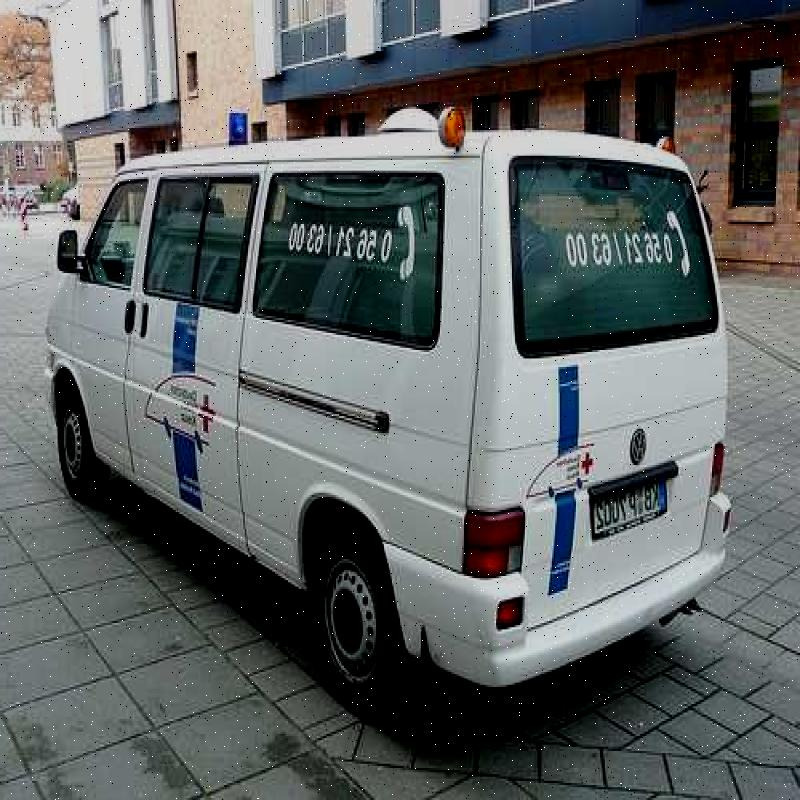AmbulanceSiren: (434, 92, 478, 162), (219, 102, 262, 152)
